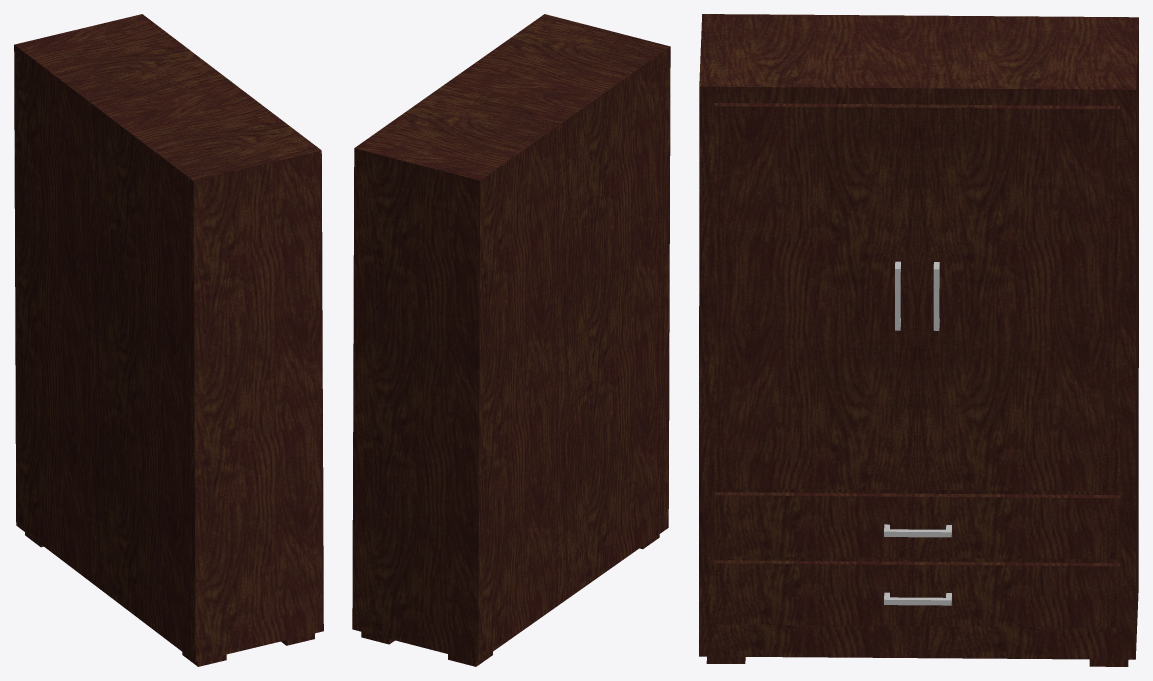
The model's file is closet90.glb.
The picture shows the model from 3 angles, left to right: view 1: azimuth 30°, elevation 25°; view 2: azimuth 150°, elevation 25°; view 3: azimuth 270°, elevation 25°; orthographic projection. The views are drawn at different scales.
Visible parts, largest first — view 1: furniture and household assets.001; view 2: furniture and household assets.001; view 3: furniture and household assets.001.
Part boxes in pixels (left/top/right/bottom): furniture and household assets.001: left=14, top=14, right=323, bottom=666; furniture and household assets.001: left=352, top=14, right=670, bottom=666; furniture and household assets.001: left=699, top=14, right=1138, bottom=666.
Size of the model in its own units: 53.02 by 166 by 114.
2 materials, 1 textured.
